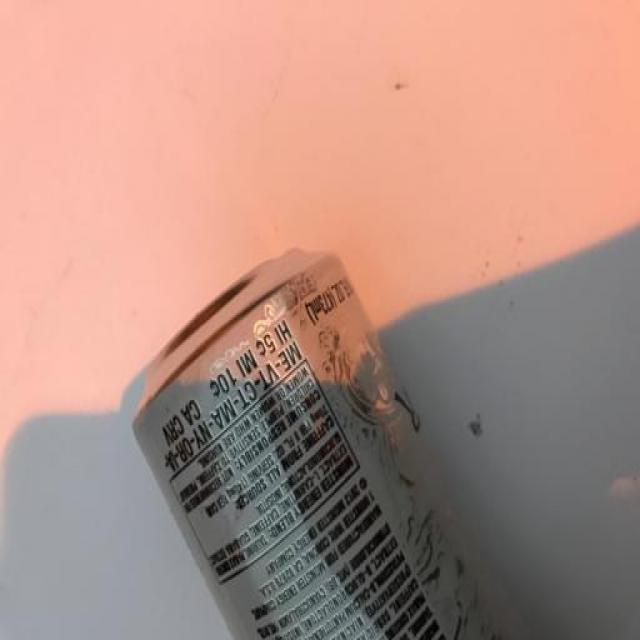metel: (116, 246, 551, 640)
